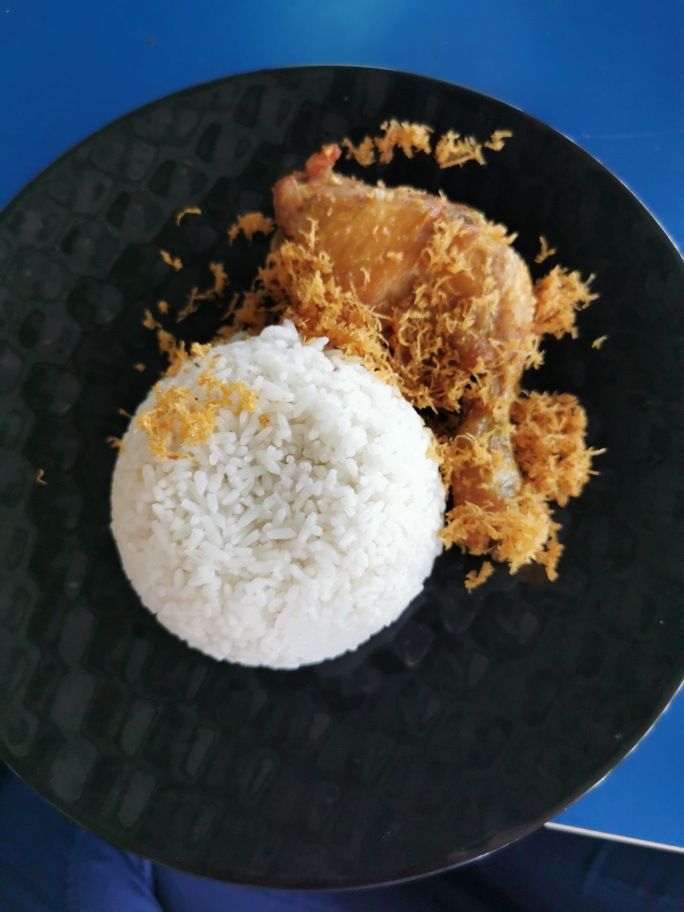ayam goreng: (274, 141, 604, 582)
nasi putih: (110, 324, 448, 675)
